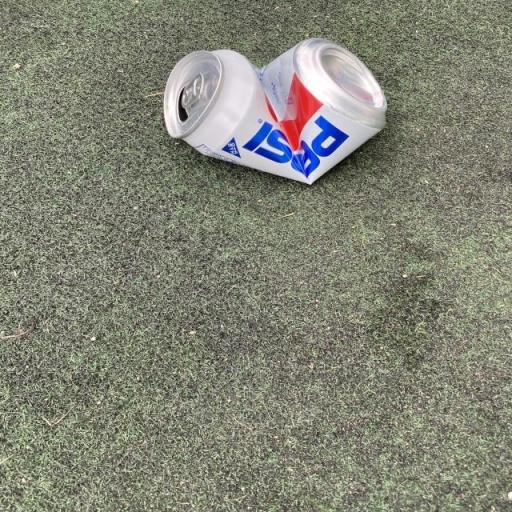metal: (142, 34, 406, 181)
